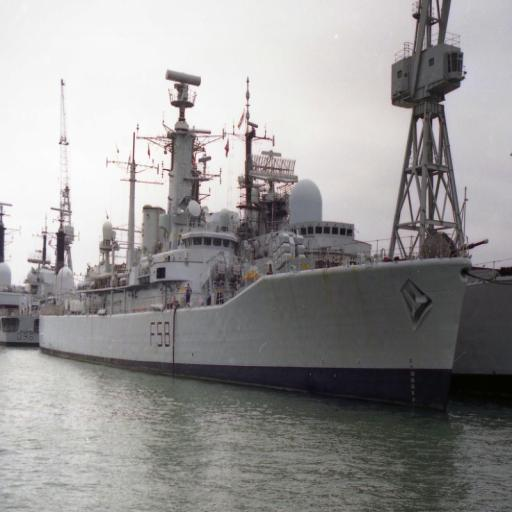Fragata: (33, 58, 483, 409)
